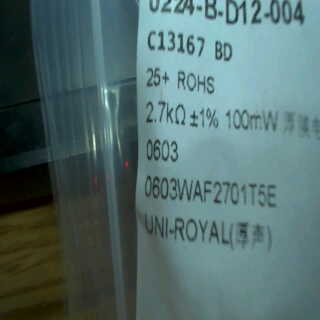2.7kR: (143, 98, 188, 132)
